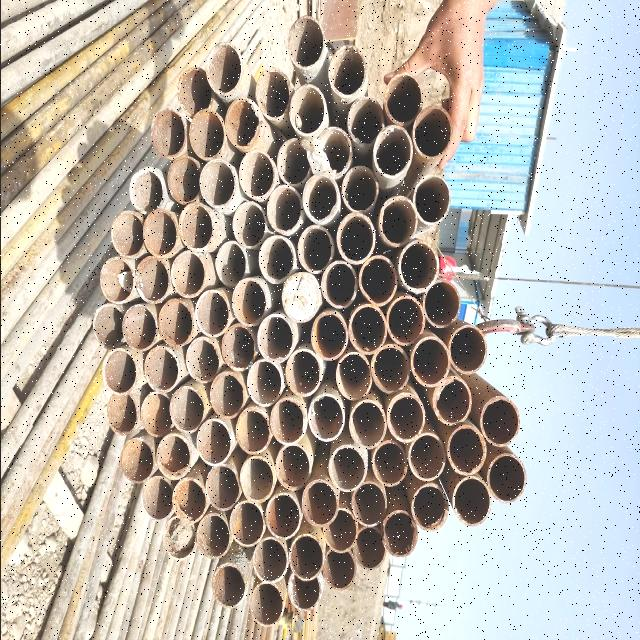pipe: (395, 236, 441, 296), (411, 102, 454, 164), (370, 123, 414, 183), (478, 392, 524, 449), (384, 388, 428, 446), (335, 210, 379, 268), (356, 252, 399, 310), (368, 342, 412, 398), (384, 292, 427, 349), (450, 474, 492, 532), (447, 321, 489, 379), (409, 334, 451, 392), (382, 71, 424, 129), (377, 194, 419, 252), (346, 301, 388, 359), (326, 44, 368, 102), (430, 374, 474, 429), (407, 430, 449, 486), (280, 270, 322, 326), (286, 14, 326, 72), (411, 172, 452, 228), (409, 480, 451, 534), (346, 398, 388, 452), (422, 276, 462, 332), (287, 82, 327, 138), (256, 232, 296, 288), (238, 148, 278, 204), (345, 96, 386, 150), (306, 392, 346, 447), (485, 453, 527, 505), (445, 425, 487, 477), (326, 444, 368, 496), (315, 125, 354, 181), (300, 171, 342, 223), (370, 437, 410, 491), (333, 350, 373, 404), (319, 258, 359, 312), (300, 477, 340, 531), (263, 490, 303, 544), (198, 158, 238, 212), (187, 108, 227, 162), (176, 66, 216, 120), (264, 182, 302, 238), (340, 163, 380, 216), (295, 224, 334, 278), (283, 347, 322, 401), (268, 396, 308, 448), (167, 384, 207, 436), (119, 302, 159, 354), (140, 208, 180, 260), (311, 308, 349, 362), (274, 135, 312, 189), (238, 453, 276, 507), (224, 97, 262, 151), (230, 276, 268, 330), (205, 42, 243, 96), (194, 287, 232, 341), (156, 296, 194, 350), (133, 254, 171, 308), (164, 152, 202, 206), (149, 106, 187, 160), (234, 404, 273, 456), (97, 254, 136, 306), (177, 200, 216, 252), (254, 68, 290, 124), (138, 388, 176, 441), (128, 165, 166, 218), (380, 509, 420, 559), (250, 536, 290, 586), (273, 443, 313, 493), (255, 314, 295, 364), (244, 360, 284, 410), (170, 475, 210, 525), (287, 532, 325, 584), (208, 370, 246, 422), (194, 510, 232, 562), (195, 416, 233, 468), (154, 431, 192, 483), (142, 344, 180, 396), (169, 249, 207, 301), (349, 480, 388, 530), (212, 238, 248, 292), (247, 580, 285, 631), (228, 500, 266, 550), (210, 561, 248, 611), (204, 464, 242, 514), (231, 200, 267, 252), (220, 322, 256, 374), (120, 435, 156, 487), (109, 208, 145, 260), (321, 505, 358, 555), (101, 348, 138, 398), (320, 546, 358, 594), (351, 524, 387, 574), (161, 514, 197, 564), (185, 338, 221, 388), (91, 302, 127, 352), (140, 475, 176, 524), (285, 571, 323, 615), (105, 391, 139, 436)
